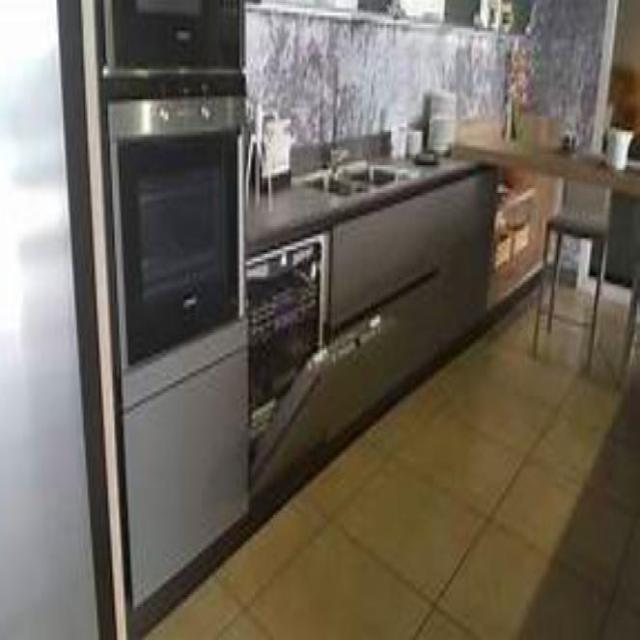dishwasher: (244, 211, 393, 507)
